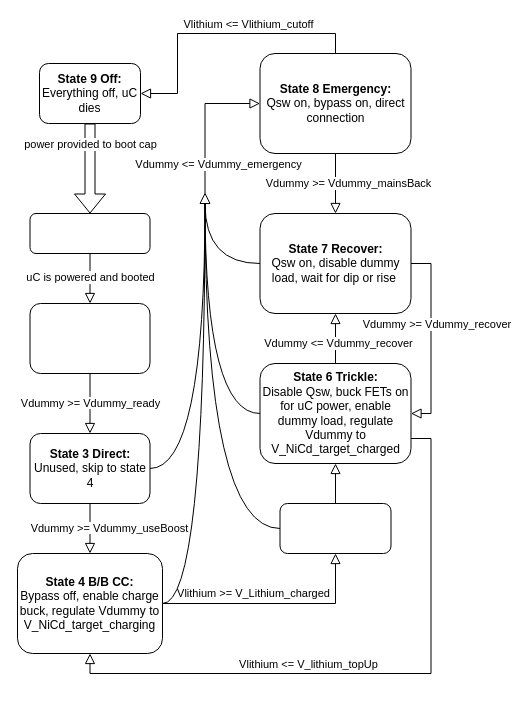
Image size: 532x701. Some labels were removed from this diagram. The centre of each missing label's shape, as x and y in pixels:
"State 1 Boot: Waiting for Qsw on" goes at point 89,233.
"State 2 Prepare: Buck FETs on, dummy load on, wait for Vdummy to rise" goes at point 89,338.
"State 5 B/B CV: Unused, skip to state 6" goes at point 335,528.
